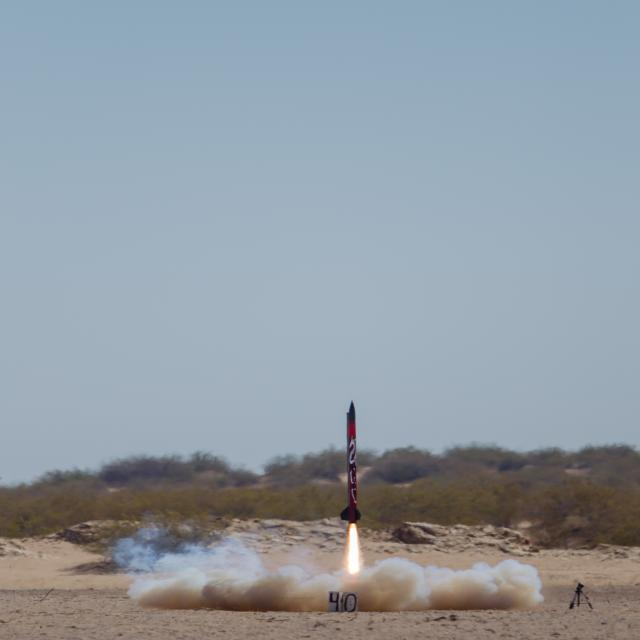Rocket: (340, 399, 362, 525)
